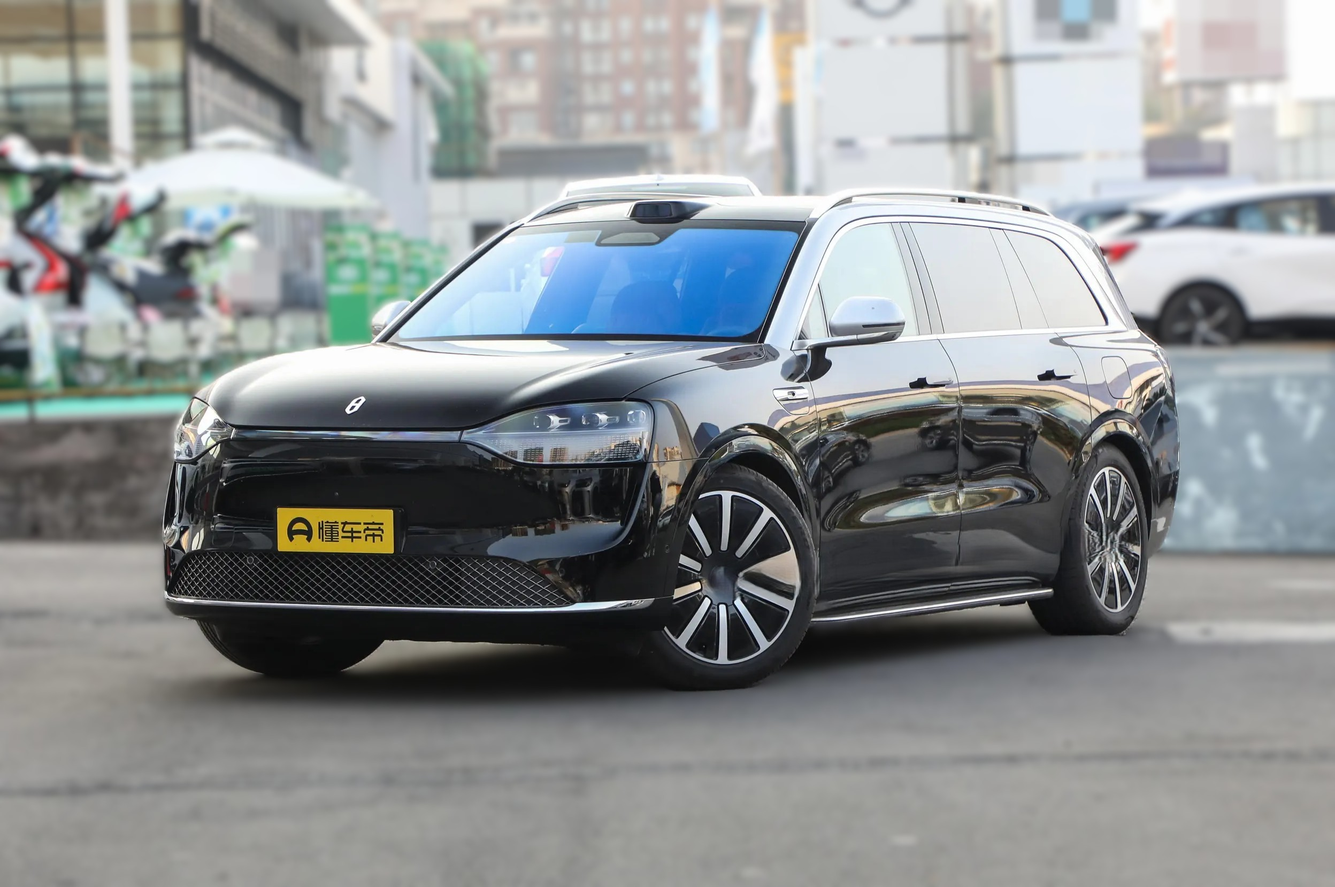AITO: (346, 396, 365, 414)
